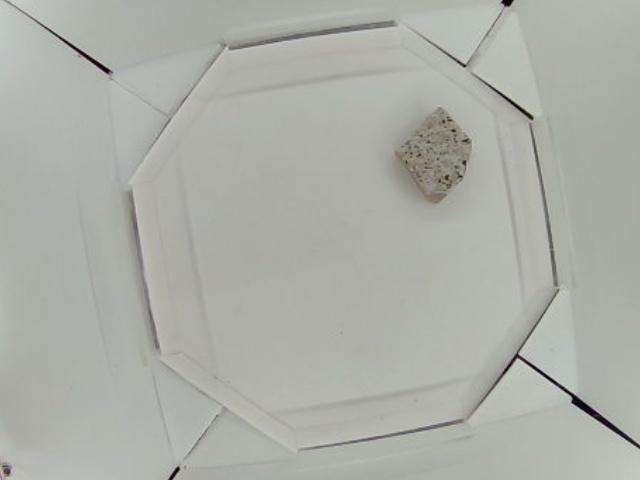China: (396, 107, 472, 205)
